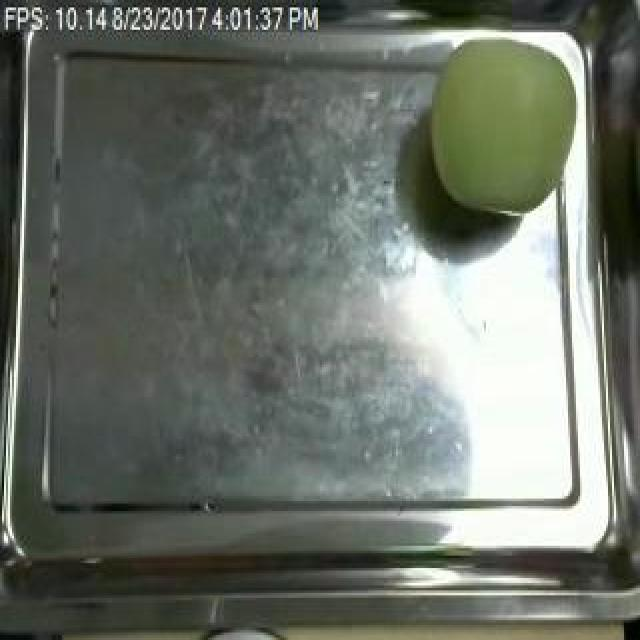Rotten Apple: (423, 32, 595, 236)
